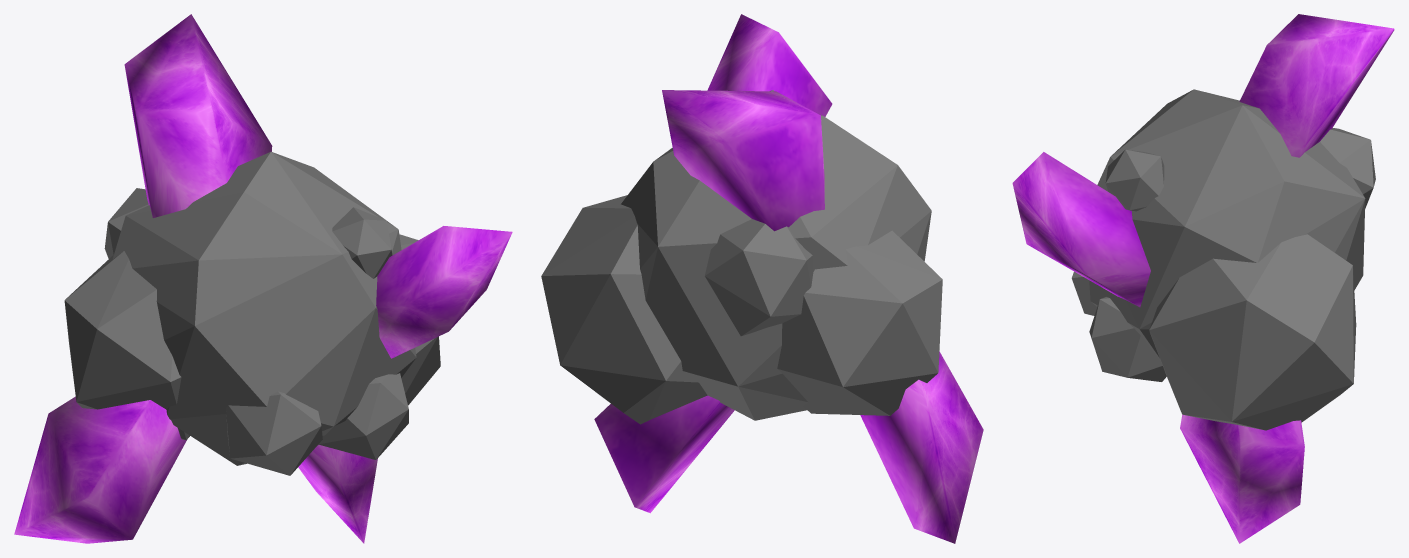
File: cursedstoneSemioreLP.fbx
3 renders of one model, left to right at view 1: azimuth 30°, elevation 25°; view 2: azimuth 150°, elevation 25°; view 3: azimuth 270°, elevation 25°, orthographic. The views are drawn at different scales.
Parts seen in each view (by area): view 1: StoneOre.009, CursedParticle.024; view 2: StoneOre.009, CursedParticle.024; view 3: StoneOre.009, CursedParticle.024.
Boxes of the visible parts, x1,y1,x2,y2 form: StoneOre.009: [64, 151, 440, 475]; CursedParticle.024: [14, 14, 512, 543]; StoneOre.009: [541, 90, 942, 424]; CursedParticle.024: [594, 14, 983, 543]; StoneOre.009: [1071, 89, 1375, 430]; CursedParticle.024: [1012, 14, 1394, 543].
Bounding box in the file's own units: 304 × 362 × 265.
